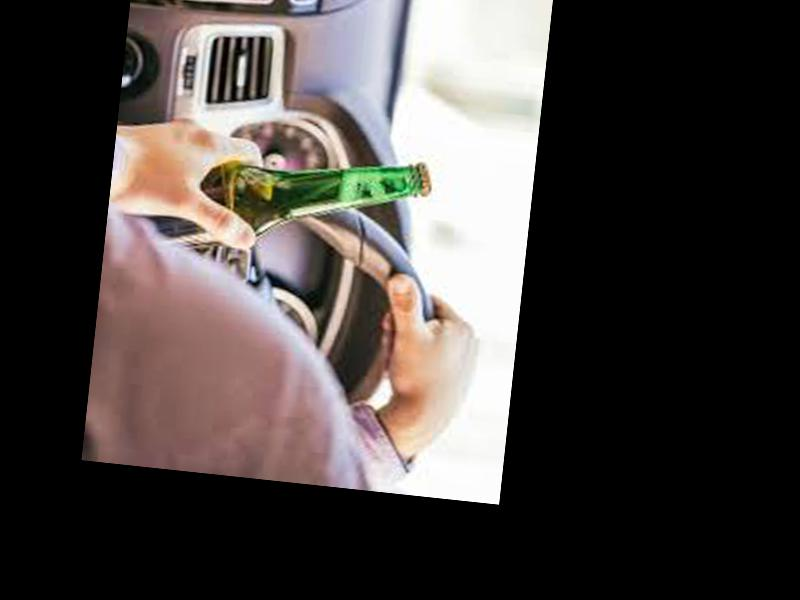Beer: (136, 132, 435, 271)
